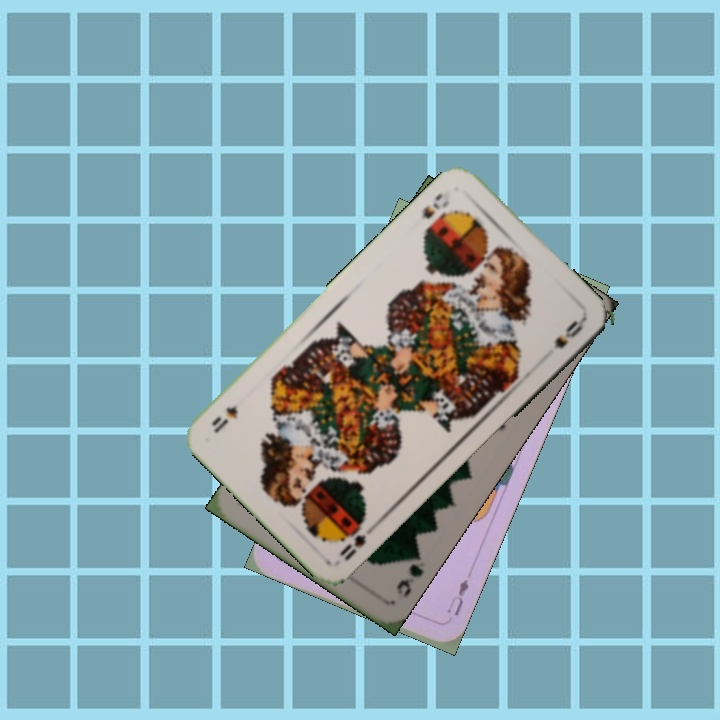EU: (442, 574, 472, 619)
G9: (392, 547, 426, 601)
SO: (335, 519, 381, 564), (418, 186, 453, 222)
